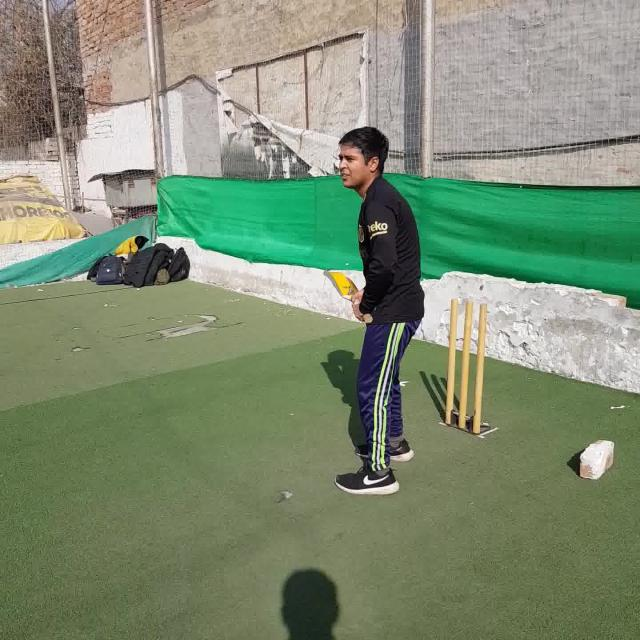bat: (325, 270, 372, 322)
